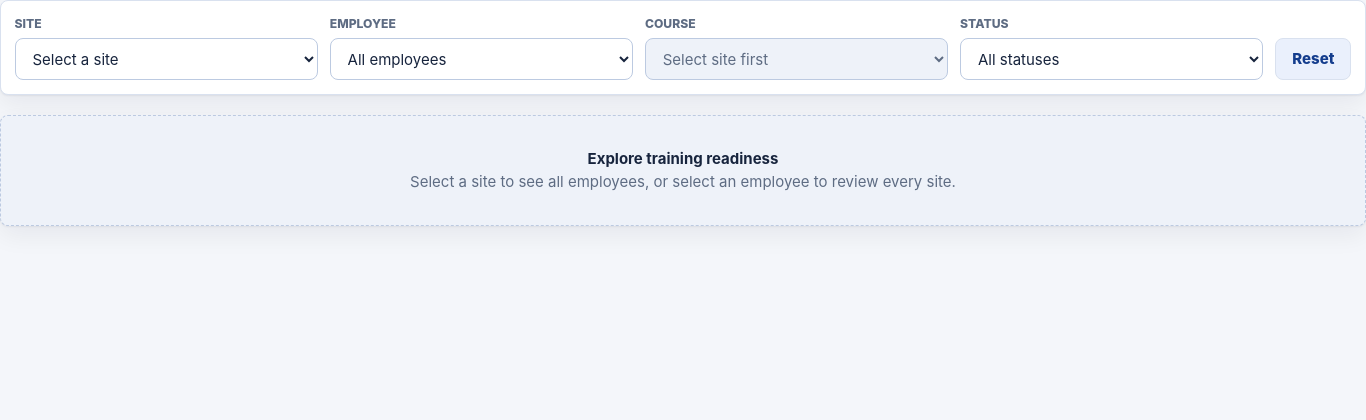
Training › shows the selected employee eligibility for every site
The width and height of the screenshot is (1366, 420).
Select "Alex Power" in the dropdown labelled "Employee" at [481, 59], box x1=330 y1=38 x2=633 y2=80
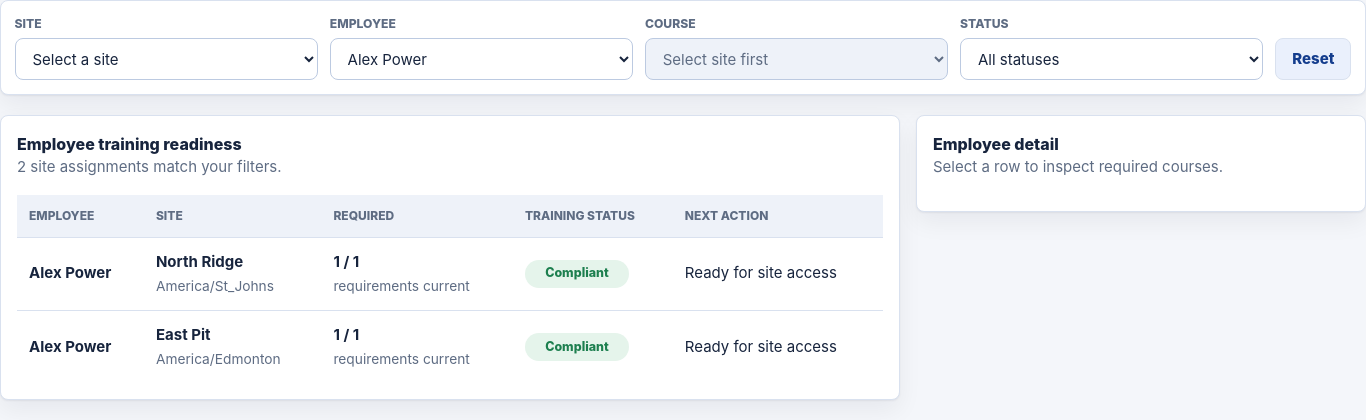
Now the table shows "North Ridge", box x1=156 y1=252 x2=243 y2=271
Now the table shows "East Pit", box x1=156 y1=325 x2=210 y2=344
Now the table shows "Alex Power", box x1=29 y1=263 x2=111 y2=282
